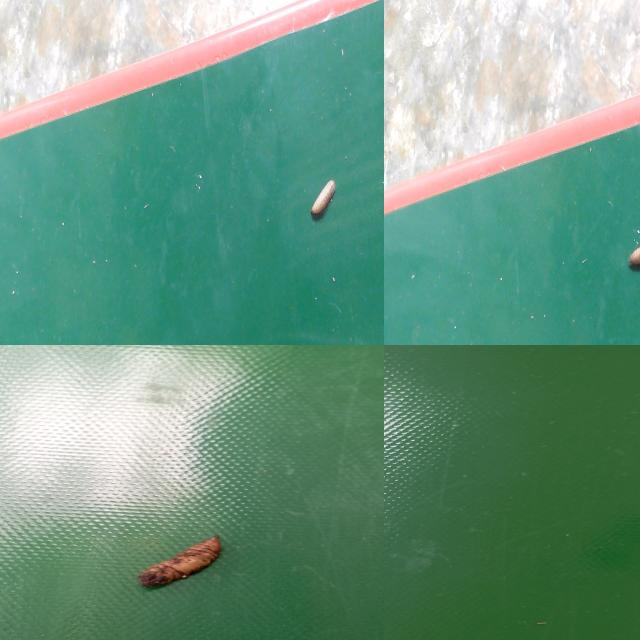Maggot: (136, 536, 223, 591), (309, 180, 337, 224), (627, 244, 640, 273)
